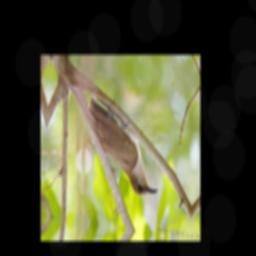Cuckoo: (84, 95, 165, 199)
